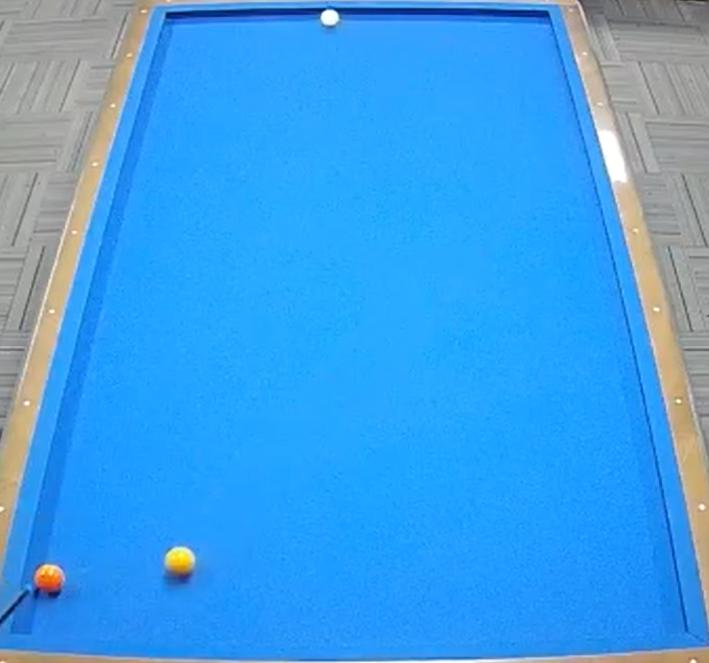orange ball: (29, 560, 72, 600)
white ball: (315, 5, 344, 35)
yellow ball: (161, 543, 201, 584)
